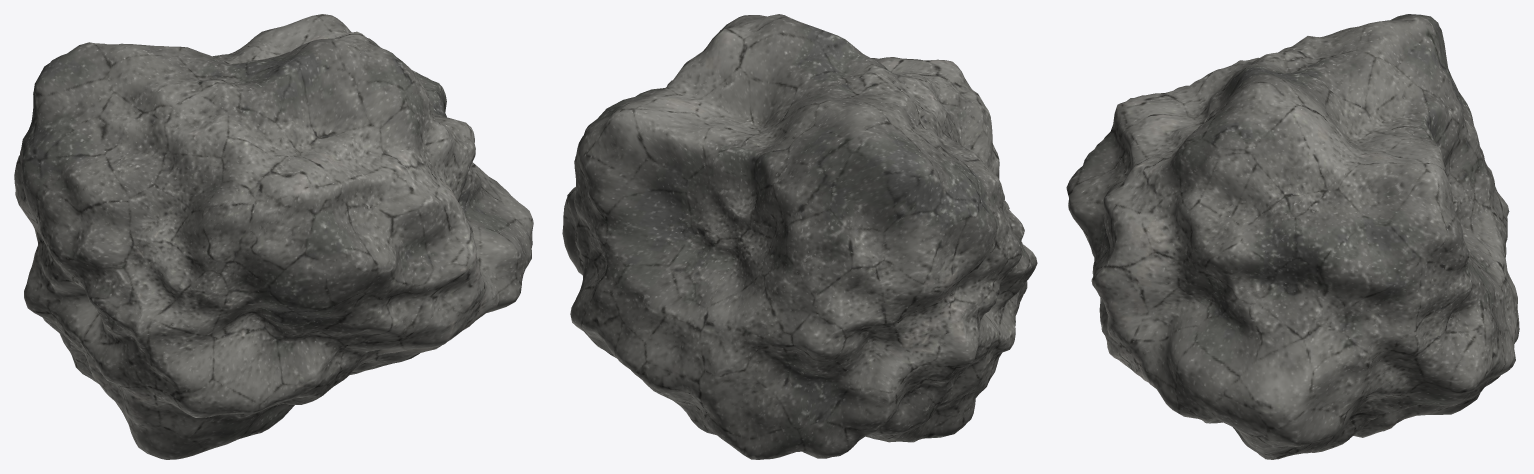
The model's file is asteroid-03.glb.
3 renders of one model, left to right at view 1: azimuth 30°, elevation 25°; view 2: azimuth 150°, elevation 25°; view 3: azimuth 270°, elevation 25°, orthographic.
Parts seen in each view (by area): view 1: asteroid-03; view 2: asteroid-03; view 3: asteroid-03.
Part boxes in pixels (x1,y1,x2,y2): asteroid-03: (14, 14, 533, 459); asteroid-03: (562, 14, 1037, 459); asteroid-03: (1066, 14, 1519, 459).
Bounding box in the file's own units: 2.53 × 1.94 × 2.13.
1 material, 1 textured.
